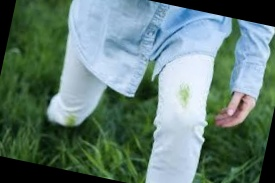earth: (176, 84, 190, 107), (64, 113, 79, 126)
